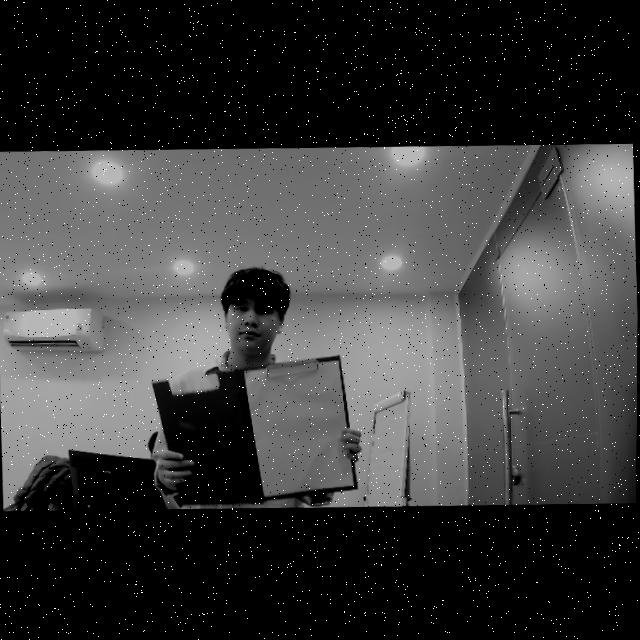face: (221, 284, 283, 359)
